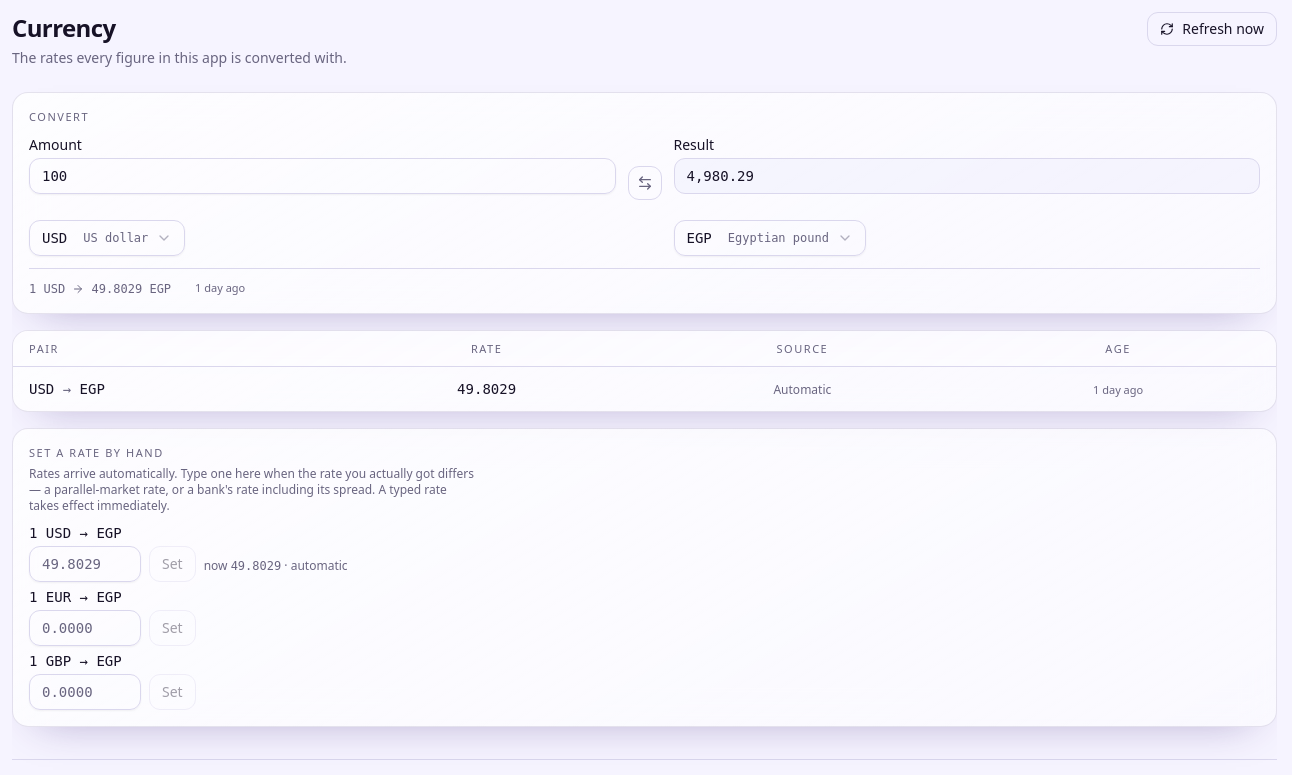
refreshing › names the pairs it could not reach, and says the rest are unchanged
What coordinates should you click on to do the following:
click the button "Refresh now"
I would click on:
 (1212, 29)
Its box is [1147,12,1277,46].
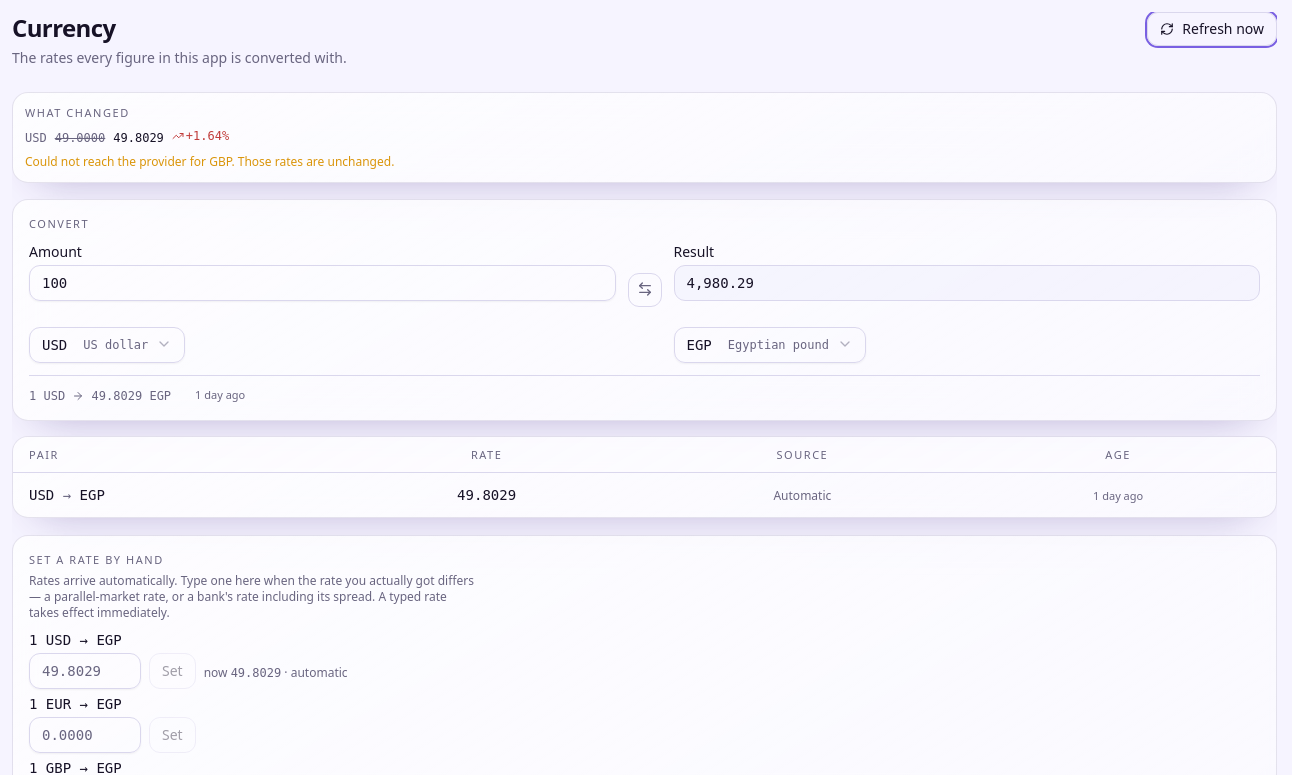
Now the text "Could not reach the provider for" is shown, box [25,152,206,170]
Now the text "Those rates are unchanged" is shown, box [231,152,394,170]
